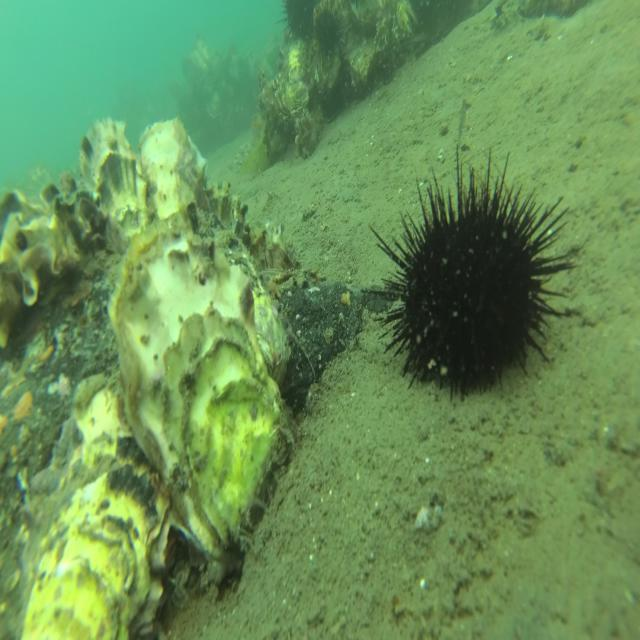echinus: (360, 149, 583, 405), (312, 0, 346, 64), (274, 0, 314, 51)
